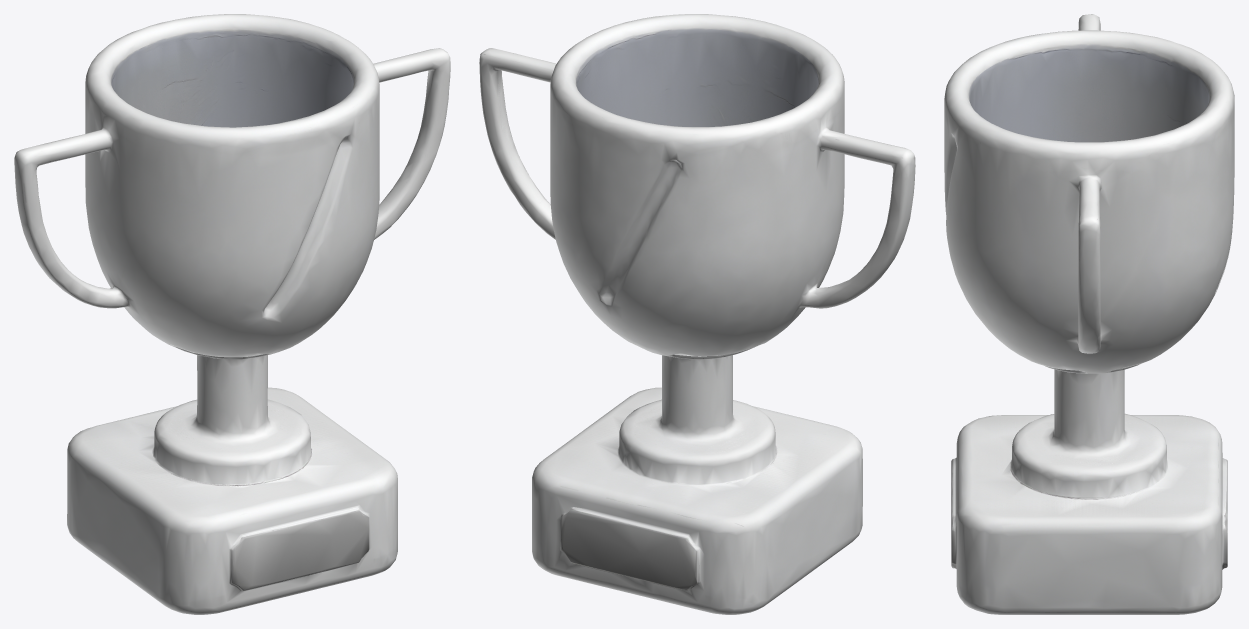
Rendered from trophy_silver.glb.
3 renders of one model, left to right at view 1: azimuth 30°, elevation 25°; view 2: azimuth 150°, elevation 25°; view 3: azimuth 270°, elevation 25°, orthographic.
Parts seen in each view (by area): view 1: Mesh_0; view 2: Mesh_0; view 3: Mesh_0.
Part boxes in pixels (x1,y1,x2,y2): Mesh_0: [14, 14, 450, 614]; Mesh_0: [479, 14, 915, 614]; Mesh_0: [944, 14, 1234, 614].
Size of the model in its own units: 1.8 by 1.91 by 1.06.
1 material, 1 textured.
